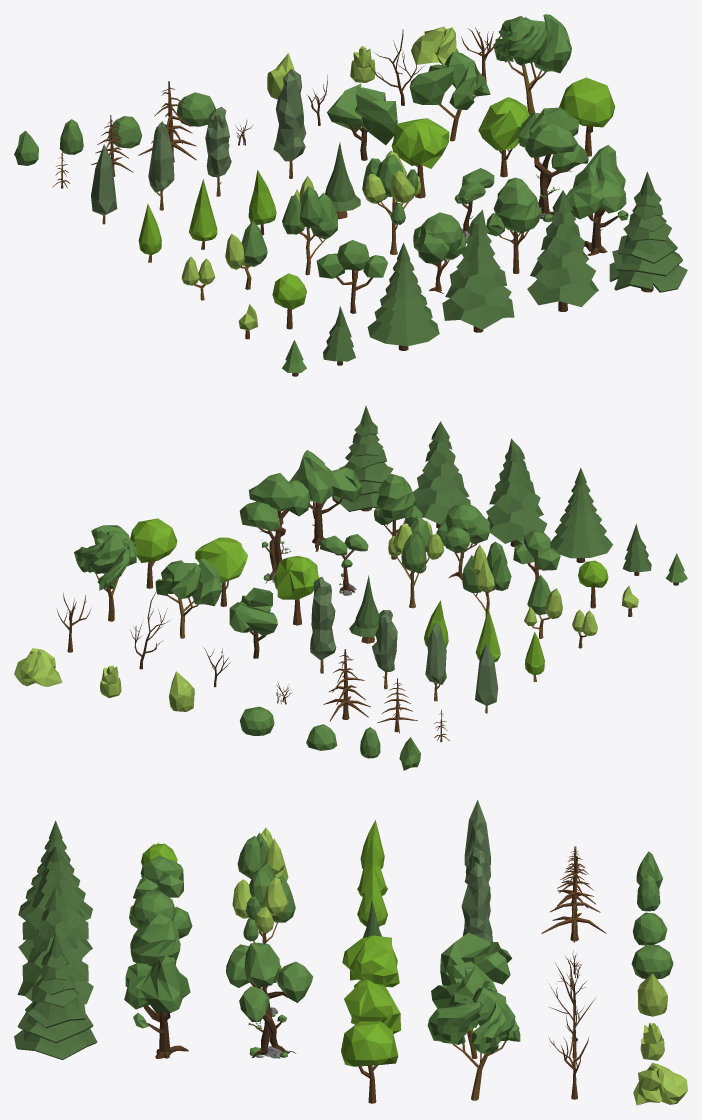
File: Low-poly Trees.fbx
The picture shows the model from 3 angles, top to bottom: view 1: azimuth 30°, elevation 25°; view 2: azimuth 150°, elevation 25°; view 3: azimuth 270°, elevation 25°; orthographic projection. The views are drawn at different scales.
Visible parts, largest first — view 1: FirTree2, FirTree4, FirTree3, FirTree5, Tree1Group3, HighDetailedTree1, Tree1Group1, Tree2Group3, Tree3Group3, HighDetailedTree3, Tree2Group1, HighDetailedTree4 (+26 smaller); view 2: FirTree4, HighDetailedTree1, FirTree3, FirTree5, FirTree2, Tree1Group3, Tree1Group1, Tree2Group3, HighDetailedTree3, Tree3Group1, HighDetailedTree4, Tree3Group3 (+23 smaller); view 3: FirTree2, HighDetailedTree1, Tree1Group3, Tree1Group1, FirTree3, HighDetailedTree3, FirTree4, Tree1Group2, Tree3Group2, Tree3Group3, Tree2Group1, Tree2Group2 (+20 smaller).
Part boxes in pixels (x1,y1,x2,y2): FirTree2: (609, 171, 687, 292); FirTree4: (442, 210, 514, 332); FirTree3: (527, 190, 598, 311); FirTree5: (367, 242, 439, 350); Tree1Group3: (493, 14, 571, 114); HighDetailedTree1: (518, 107, 588, 222); Tree1Group1: (566, 145, 628, 255); Tree2Group3: (409, 52, 490, 141); Tree3Group3: (327, 83, 397, 160); HighDetailedTree3: (362, 151, 420, 254); Tree2Group1: (486, 177, 540, 273); HighDetailedTree4: (282, 176, 337, 275); FirTree4: (486, 438, 546, 546); HighDetailedTree1: (239, 473, 309, 583); FirTree3: (413, 421, 470, 528); FirTree5: (550, 467, 612, 562); FirTree2: (333, 405, 393, 511); Tree1Group3: (74, 525, 136, 621); Tree1Group1: (290, 450, 361, 551); Tree2Group3: (155, 558, 222, 638); HighDetailedTree3: (388, 516, 444, 608); Tree3Group1: (436, 502, 489, 580); HighDetailedTree4: (462, 541, 511, 616); Tree3Group3: (229, 587, 277, 658); FirTree2: (14, 932, 97, 1059); HighDetailedTree1: (226, 942, 313, 1058); Tree1Group3: (427, 987, 520, 1100); Tree1Group1: (124, 955, 190, 1058); FirTree3: (17, 887, 93, 1004); HighDetailedTree3: (232, 870, 295, 943); FirTree4: (18, 846, 92, 960); Tree1Group2: (341, 1021, 398, 1103); Tree3Group2: (342, 935, 399, 987); Tree3Group3: (440, 932, 512, 985); Tree2Group1: (130, 914, 180, 1014); Tree2Group2: (344, 979, 400, 1033).
Size of the model in its own units: 1130 by 1309 by 284.
